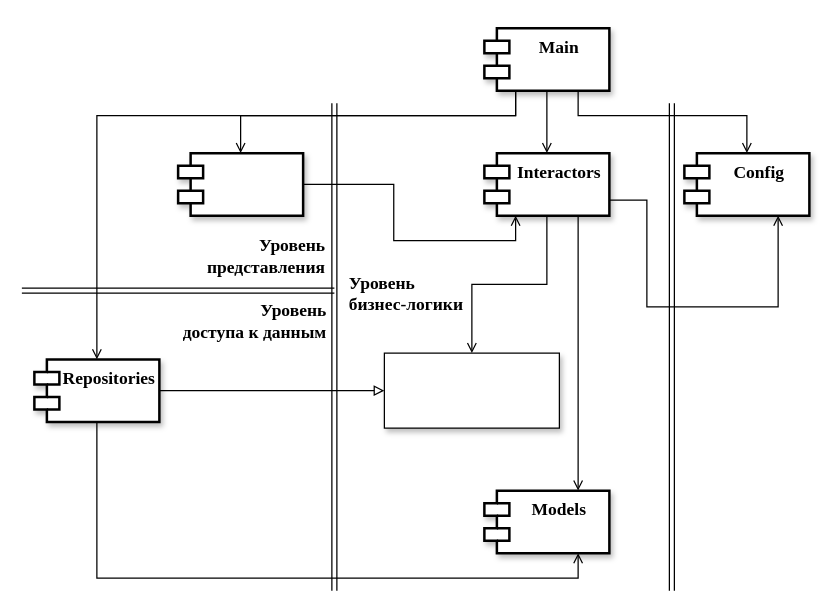
This 840x613 diagram has some shape labels left out. The shapes that lost their labels are listed below. From the top down, each one's centre as x and y in pixels, then its label:
At (241,185): "Presentation".
At (472,392): "«interface» RepositoryInterfaces".
